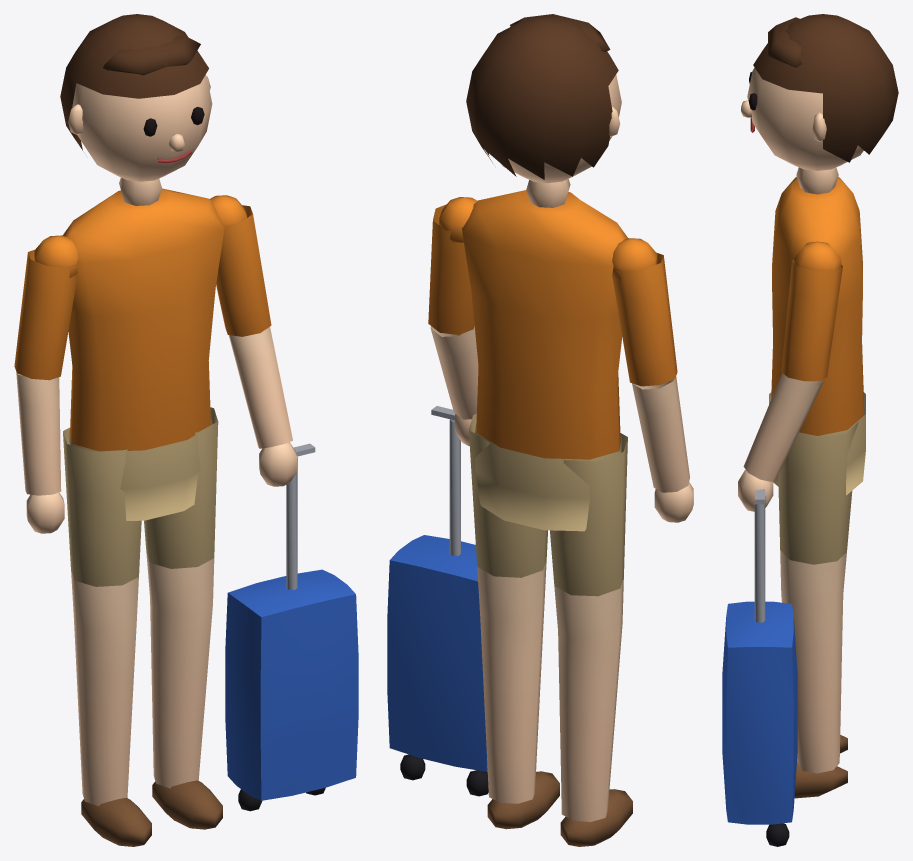
File: Guest_Father.obj
3 renders of one model, left to right at view 1: azimuth 30°, elevation 25°; view 2: azimuth 150°, elevation 25°; view 3: azimuth 270°, elevation 25°, orthographic. The views are drawn at different scales.
Visible parts, largest first — view 1: Torso, Prop, LegR, LegL, Head, ArmR, ArmL; view 2: Torso, Prop, LegR, Head, LegL, ArmR, ArmL; view 3: LegL, Head, Prop, Torso, ArmL.
Part boxes in pixels (left/top/right/bottom): Torso: left=62, top=177, right=224, bottom=520; Prop: left=225, top=443, right=358, bottom=811; LegR: left=63, top=427, right=151, bottom=846; LegL: left=144, top=407, right=222, bottom=829; Head: left=60, top=14, right=212, bottom=181; ArmR: left=14, top=235, right=78, bottom=533; ArmL: left=210, top=195, right=296, bottom=486; Torso: left=462, top=179, right=627, bottom=531; Prop: left=387, top=406, right=488, bottom=796; LegR: left=550, top=433, right=632, bottom=846; Head: left=466, top=14, right=621, bottom=183; LegL: left=468, top=414, right=559, bottom=829; ArmR: left=612, top=238, right=693, bottom=522; ArmL: left=428, top=197, right=478, bottom=445; LegL: left=778, top=422, right=858, bottom=798; Head: left=741, top=14, right=898, bottom=170; Prop: left=722, top=489, right=797, bottom=846; Torso: left=769, top=167, right=865, bottom=495; ArmL: left=738, top=241, right=842, bottom=511.
Bounding box in the file's own units: 0.7521 × 1.91 × 0.4025.
1 material, 1 textured.
